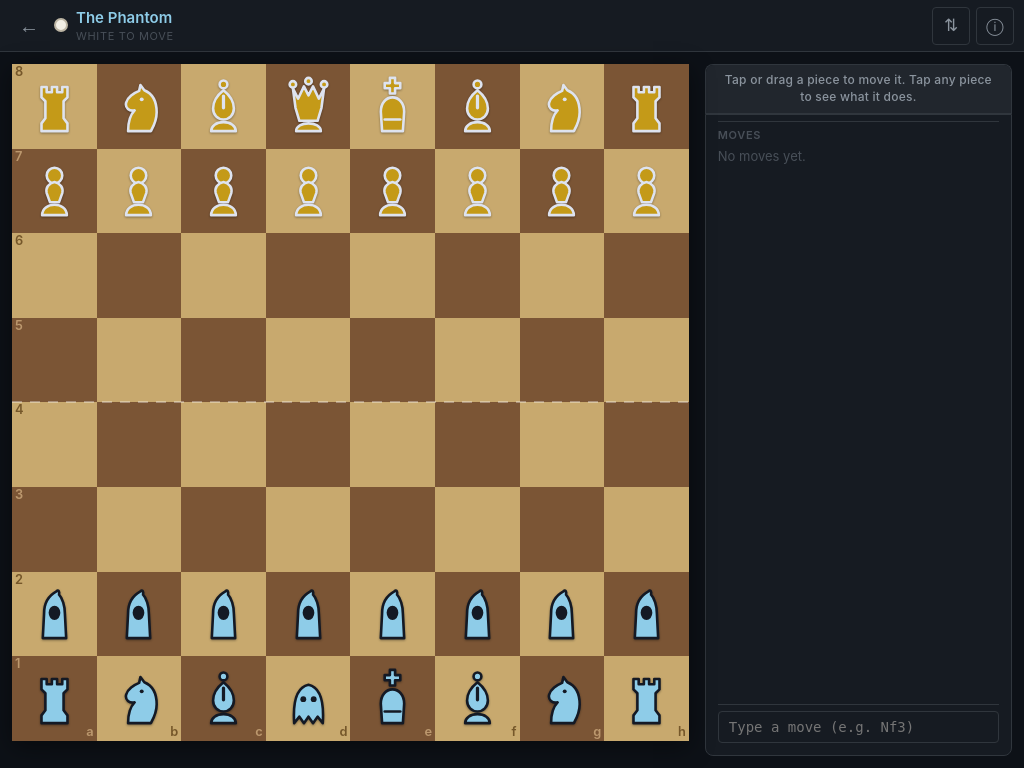
GameScreen piece-info bar › shows the reminder while a piece is selected and hides it when deselected
Note: Select the White Thrall on d2 (sq 11)
Click the cell named "d2: White Thrall".
click(308, 614)  # box [266,572,350,656]
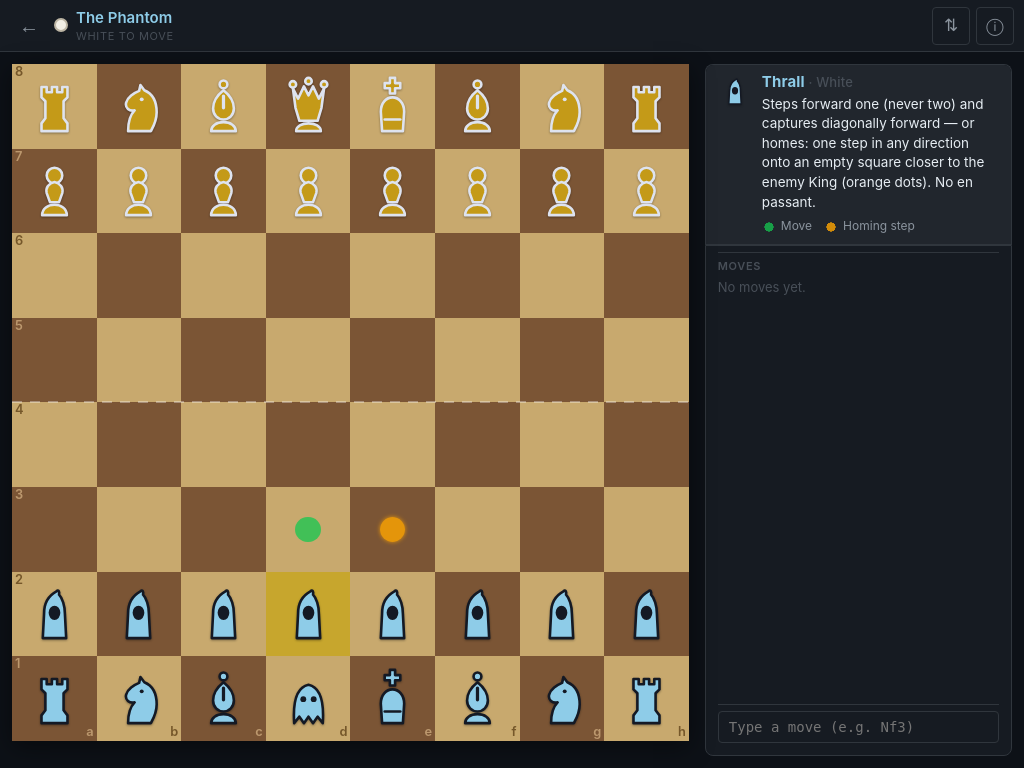
Check: the element with test id "piece-info" is shown, box [706,65,1011,245]
Check: the element with test id "piece-info" shows "Thrall", box [762,72,805,91]
Check: the element with test id "piece-info" shows "homes", box [762,96,984,210]
Click the cell named "e5".
click(393, 360)  # box [350,318,435,402]
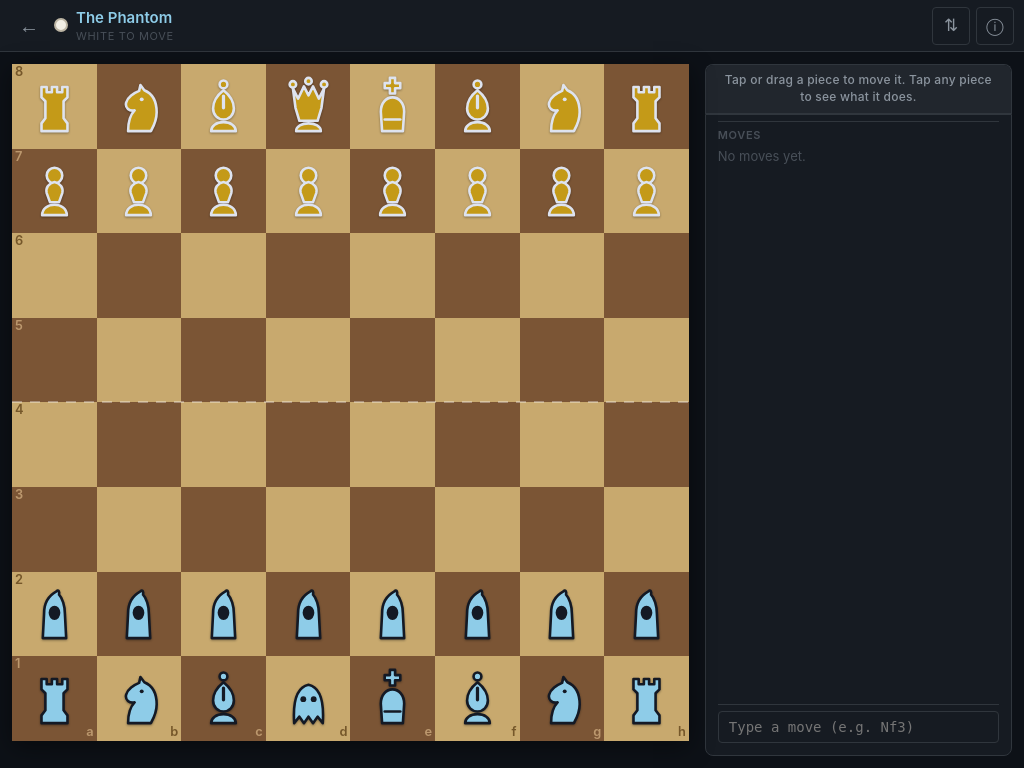
Check: the element with test id "piece-info" is gone
